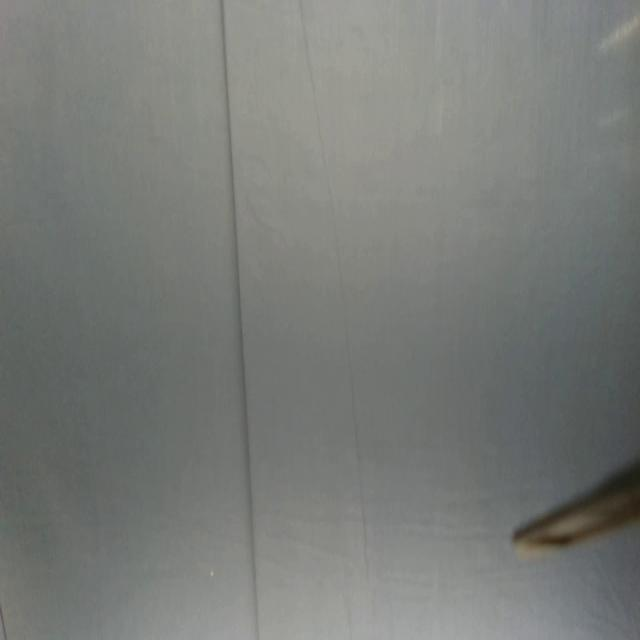crease: (297, 0, 369, 582), (218, 0, 260, 637)
hole: (209, 568, 214, 578)
